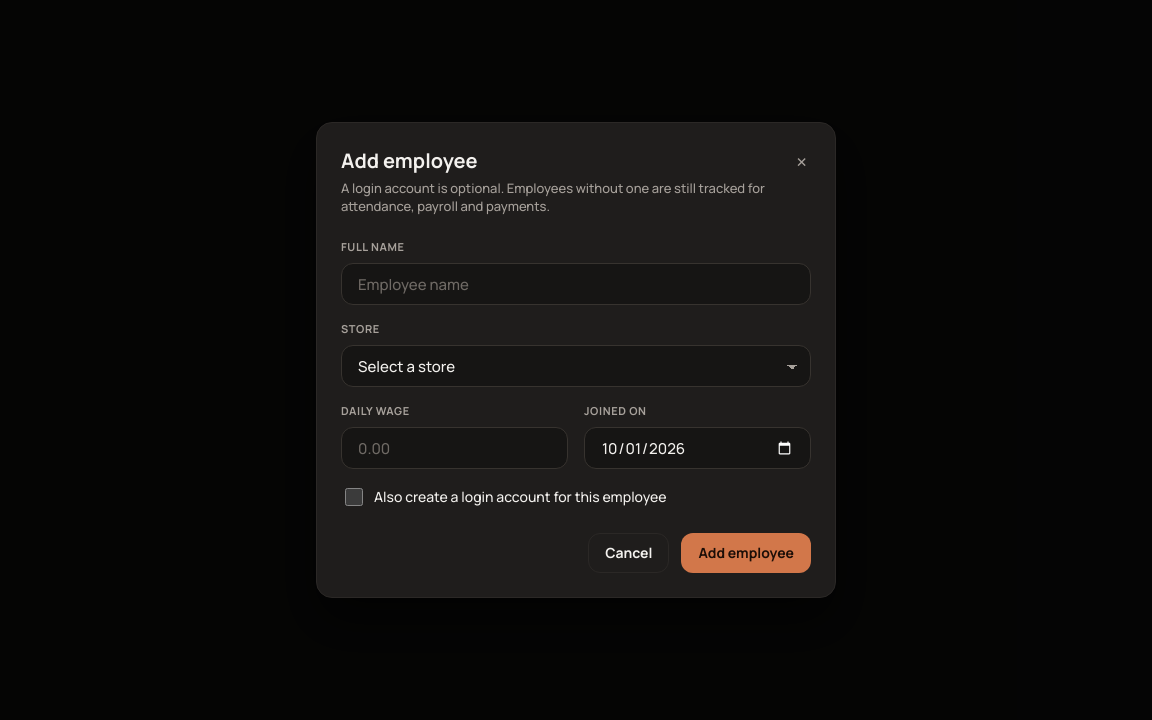
Test case: EmployeeFormModal › requires both credentials together once an account is requested
Type "Mohan Das" into the field labelled "Full name" at (576, 284), box 341,263 -> 811,305
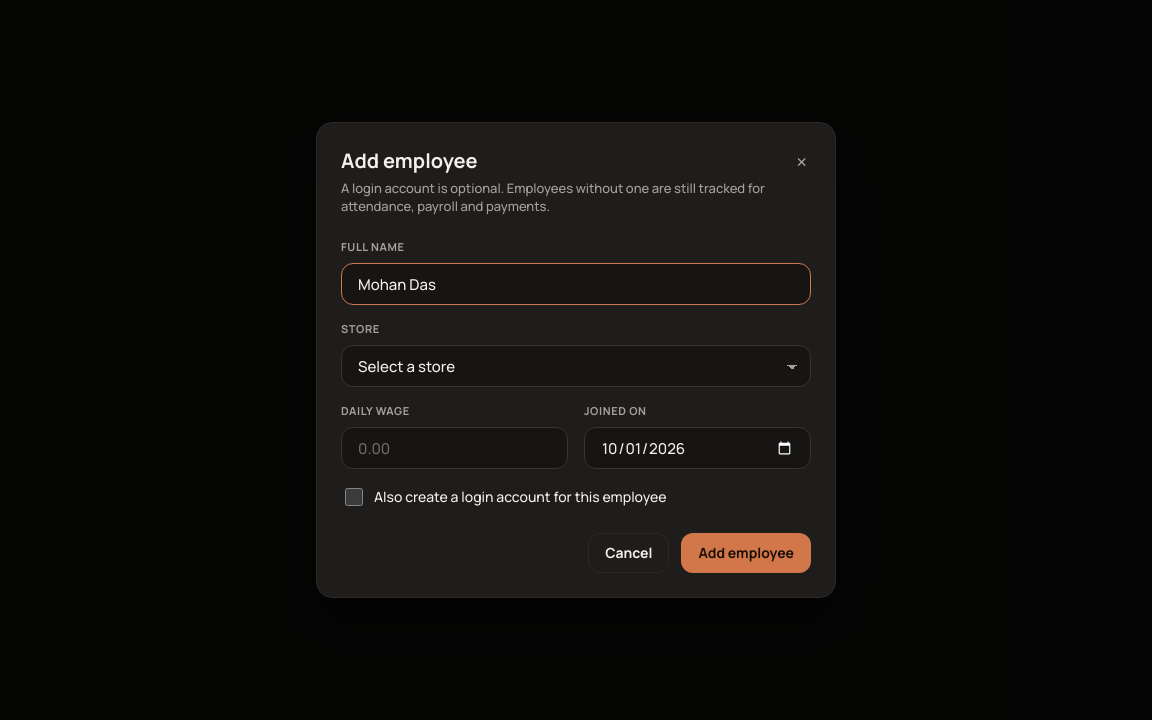
Select "Koramangala" in the dropdown labelled "Store" at (576, 366), box 341,345 -> 811,387
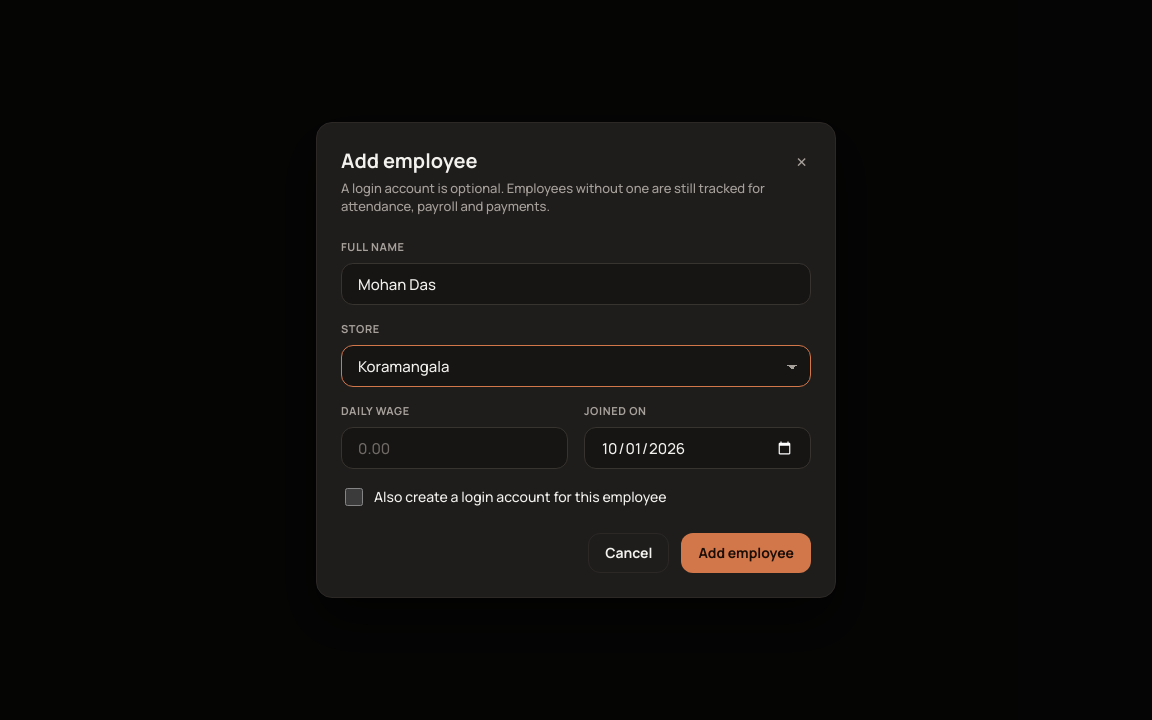
Type "640" into the number field labelled "Daily wage" at (454, 448), box 341,427 -> 568,469
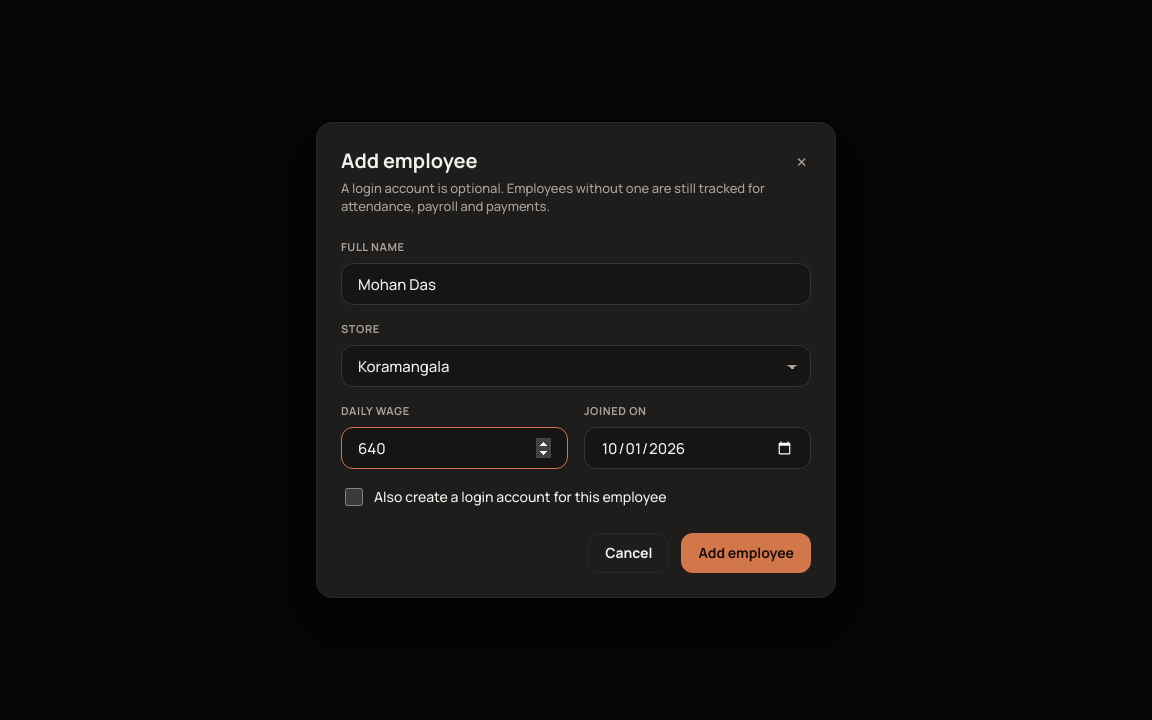
Click the checkbox labelled "Also create a login account for this employee" at (354, 497), box 345,488 -> 363,506
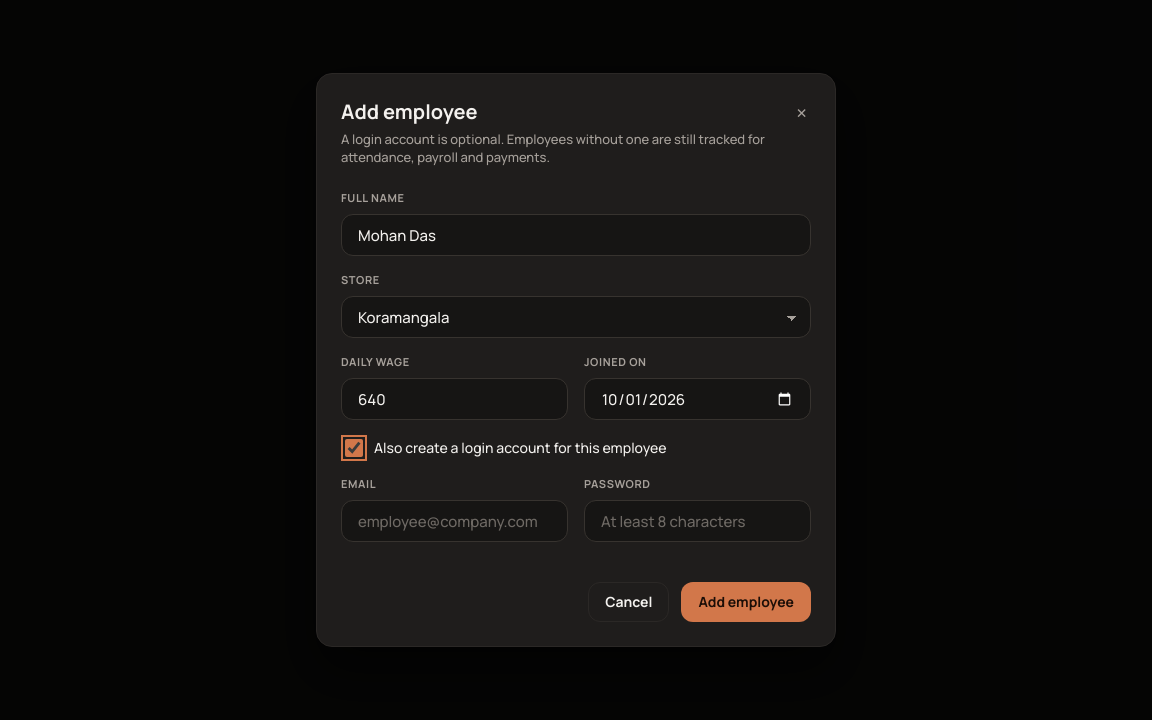
Type "mohan@example.com" into the field labelled "Email" at (454, 521), box 341,500 -> 568,542
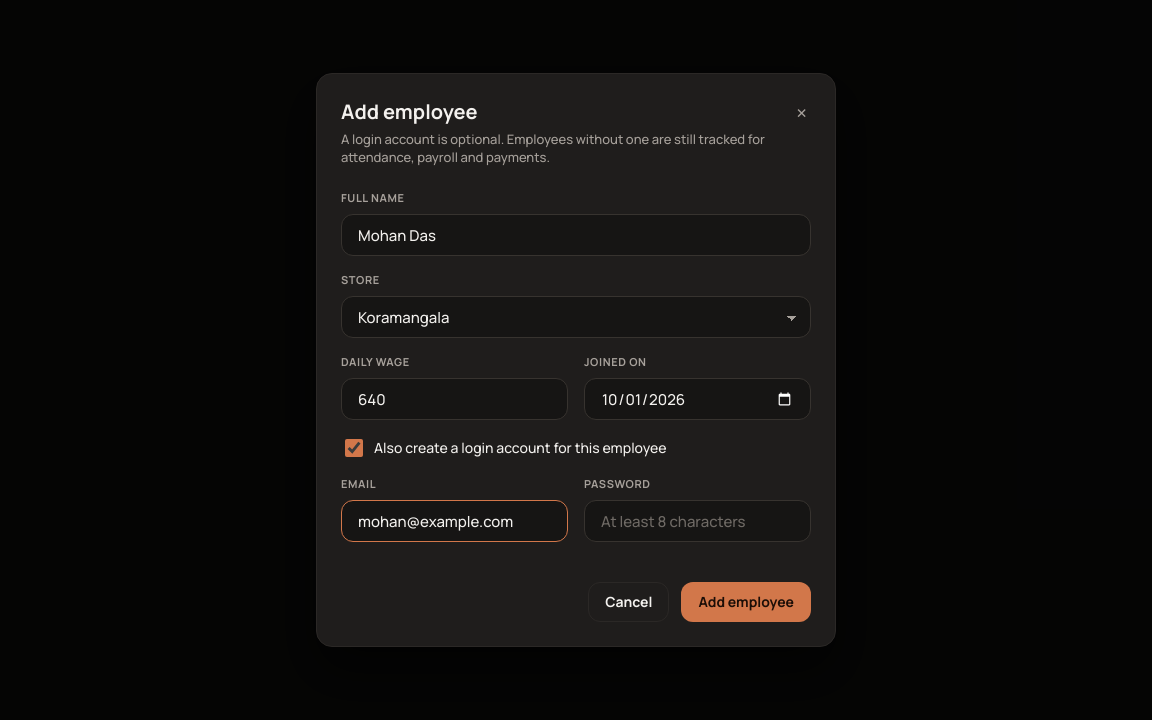
Click the button "Add employee" at (746, 602), box 681,582 -> 811,622
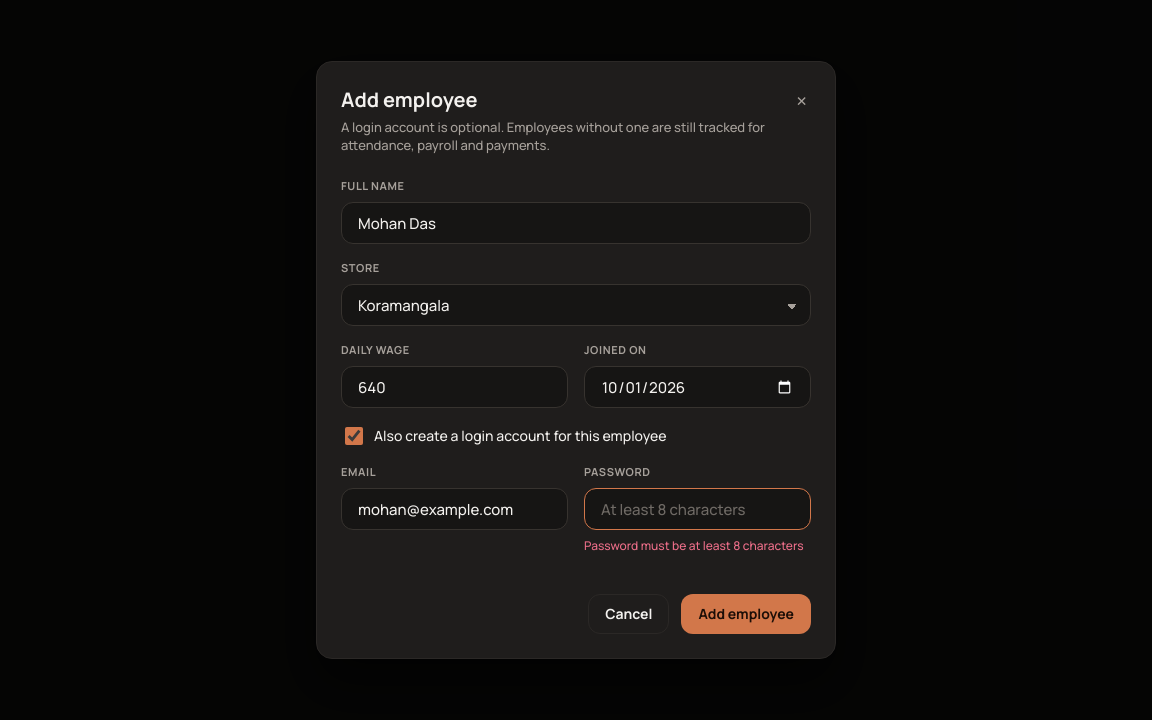
Now the text "Password must be at least 8 characters" is shown, box 584,538 -> 811,554
